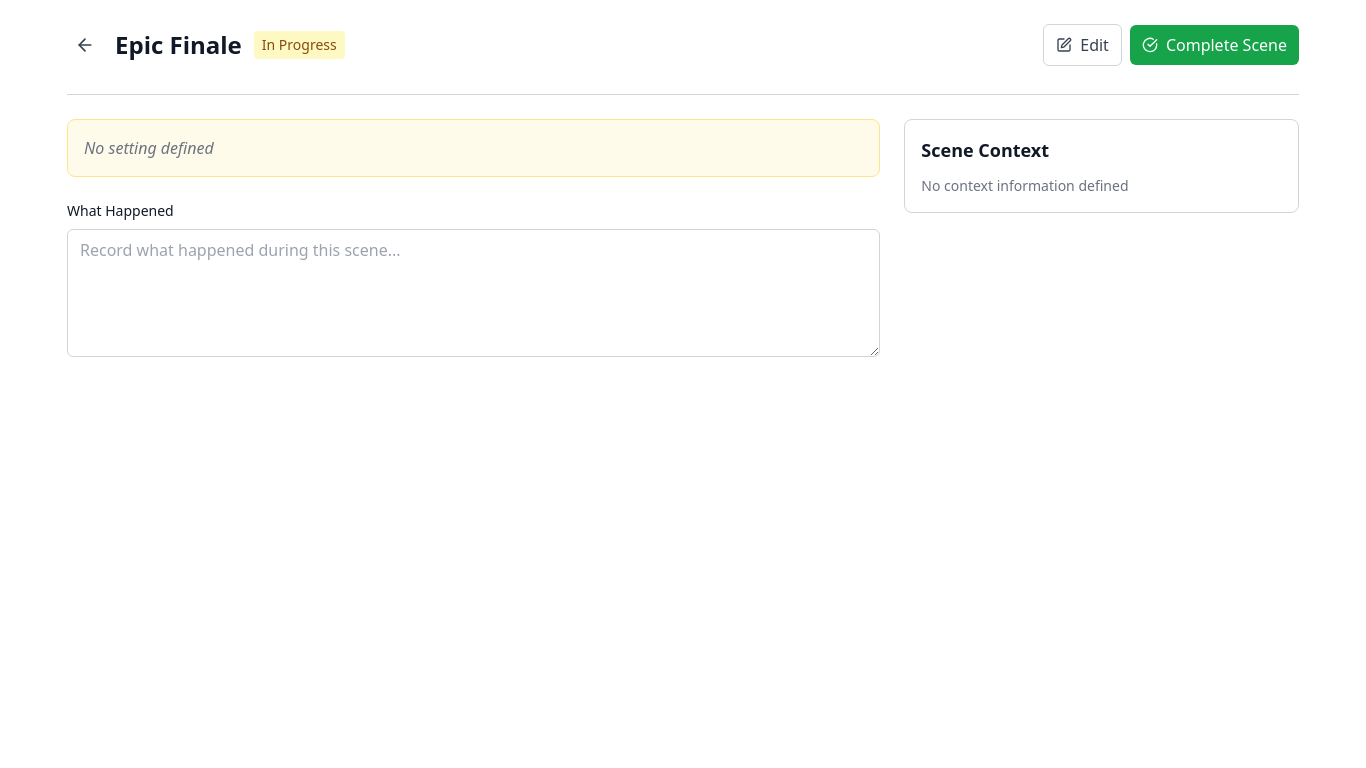
Scenario: Scene Runner Page - Complete Scene Action › should show scene name in completion modal
Step 1. Click the button "Complete Scene" → (1214, 45), box [1130, 25, 1299, 65]
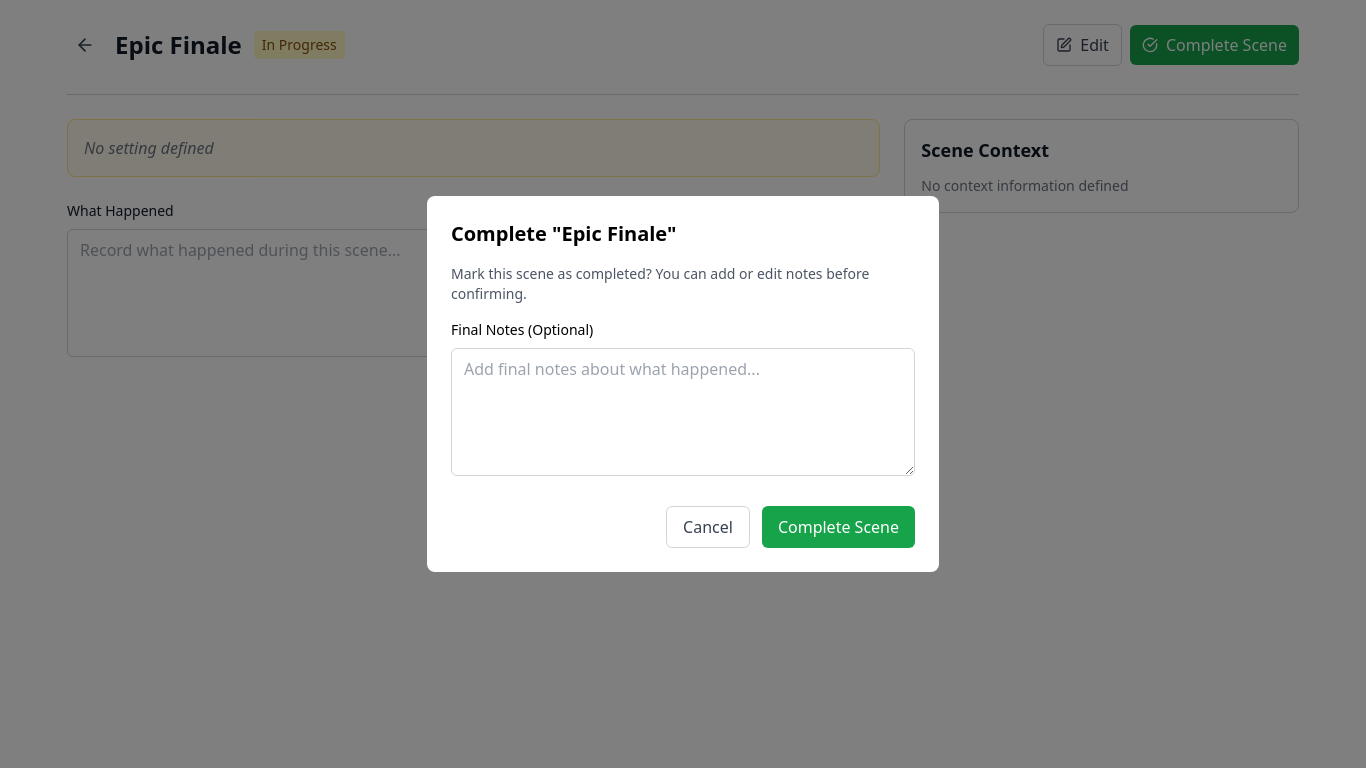
Expected: the heading "Complete \"Epic Finale\"" is shown, [451, 220, 676, 247]
